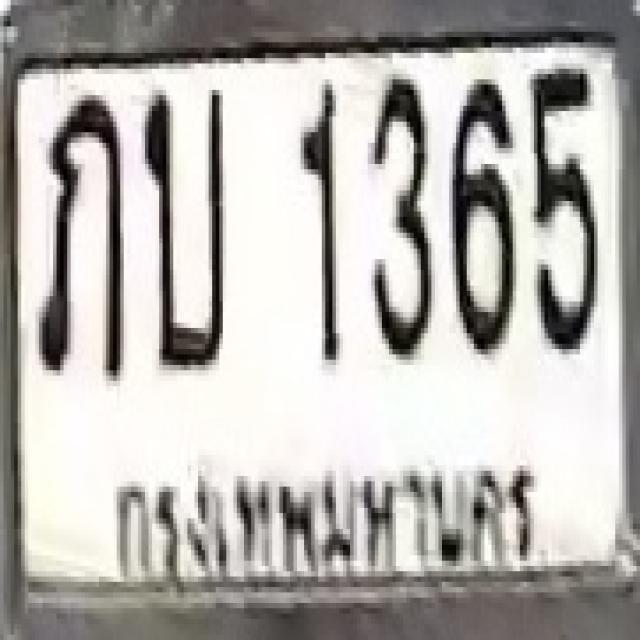1: (297, 82, 339, 368)
3: (366, 74, 433, 360)
5: (529, 66, 592, 352)
6: (449, 74, 513, 354)
A26: (140, 85, 224, 370)
A32: (32, 90, 124, 375)
BKK: (108, 451, 552, 586)
